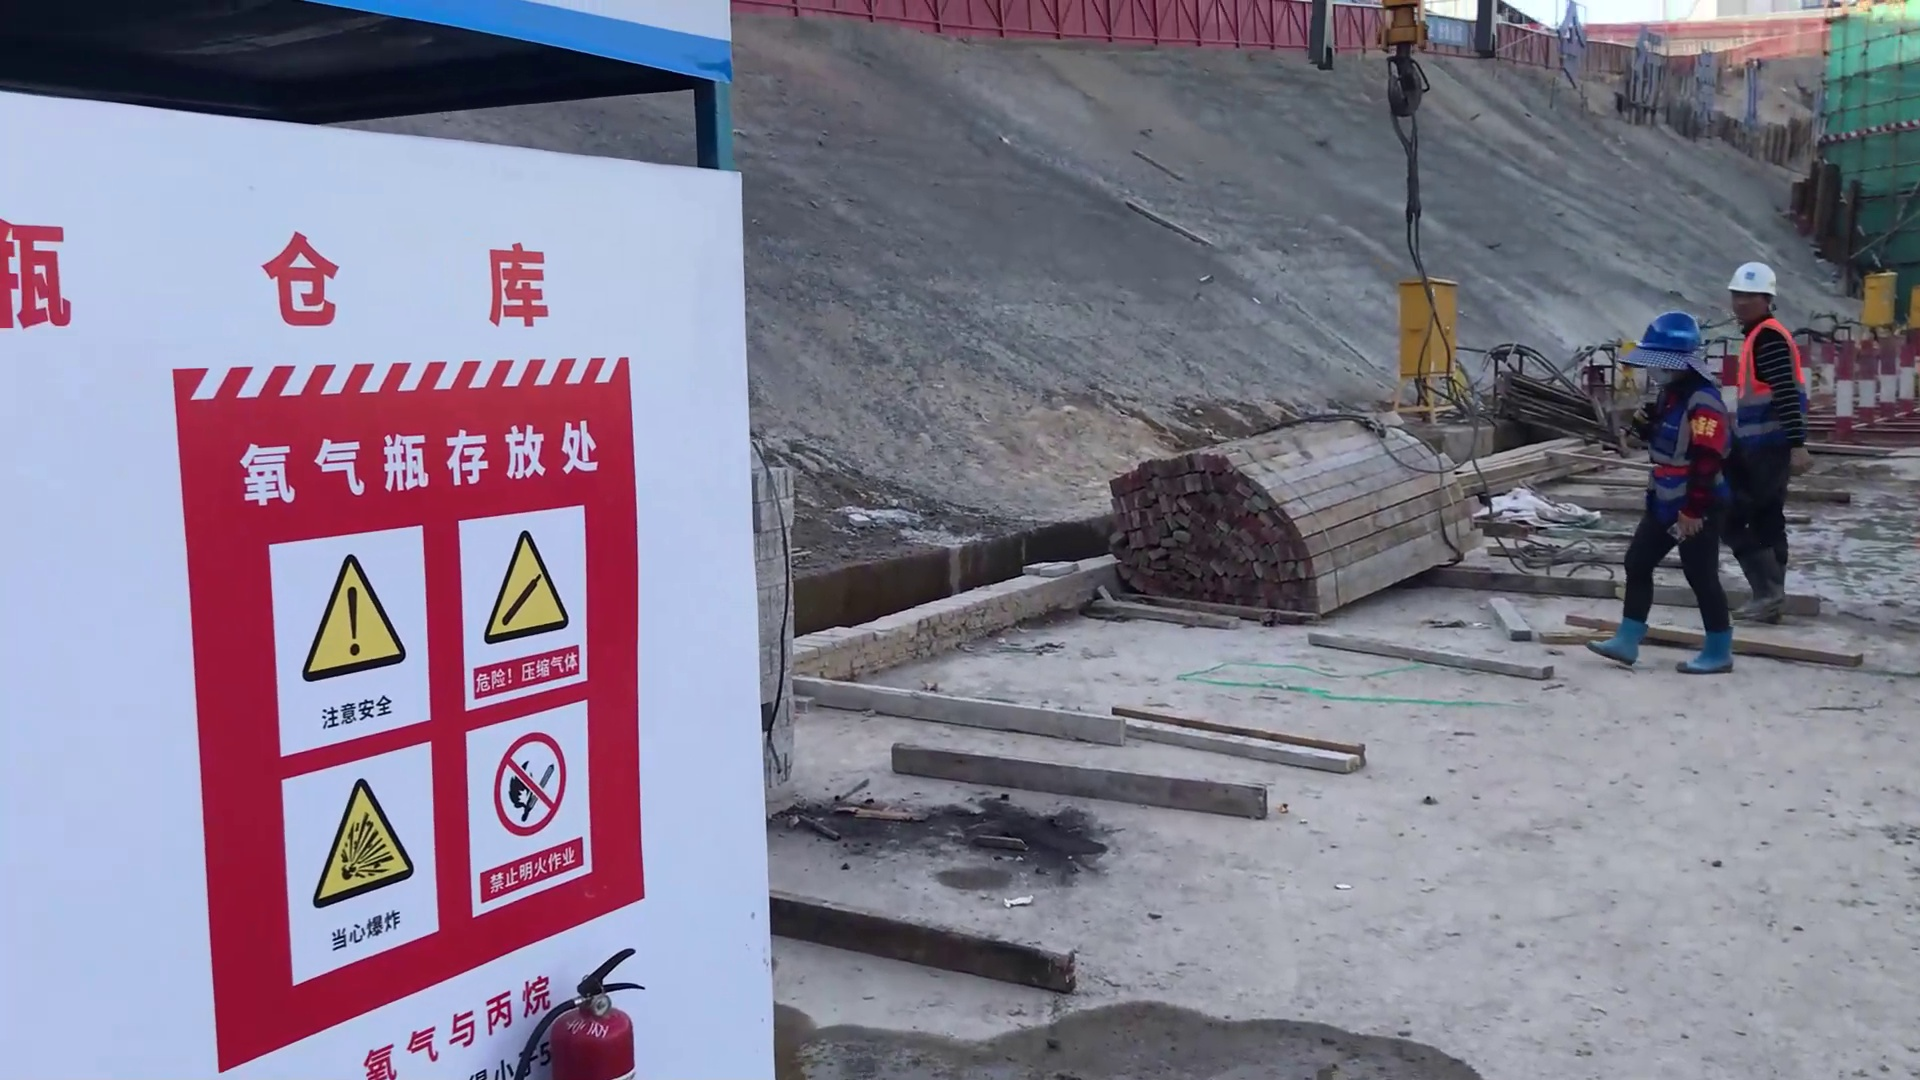brick: (729, 424, 823, 819)
ebox: (1386, 261, 1482, 407), (1863, 261, 1901, 334)
helmet: (1633, 301, 1712, 381), (1711, 248, 1784, 313)
person: (1584, 307, 1732, 669), (1720, 260, 1809, 623)
slogan: (217, 487, 618, 938)
vest: (1740, 323, 1795, 403)
wood: (1097, 374, 1510, 627)
